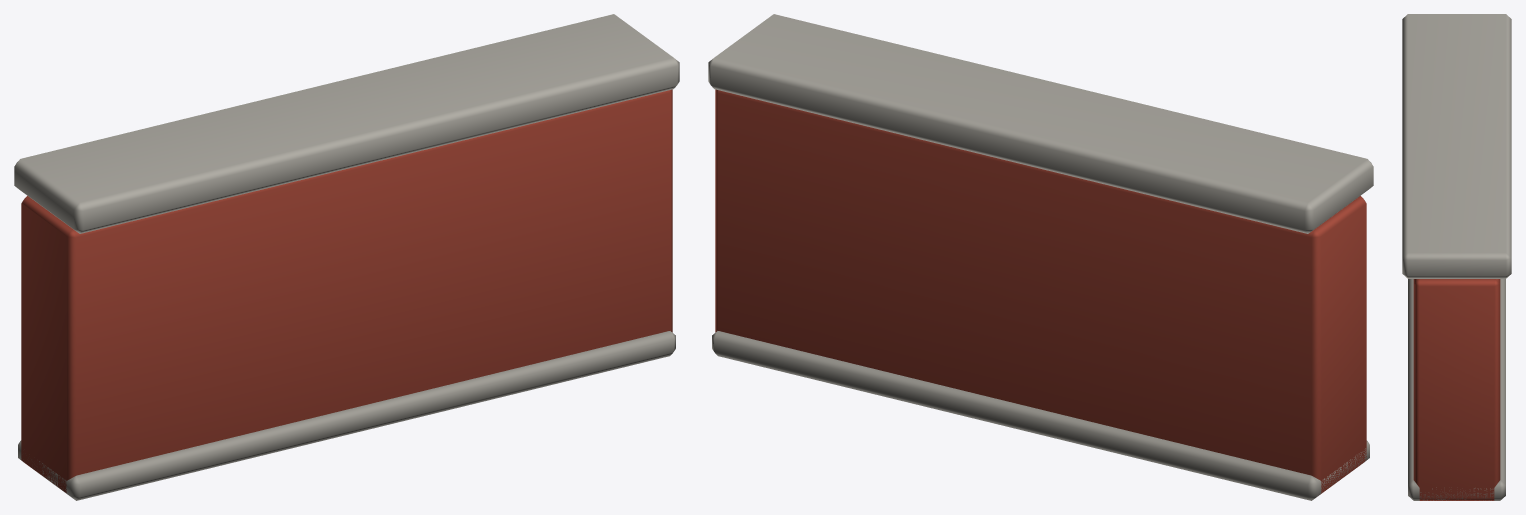
Rendered from garden_wall.glb.
3 renders of one model, left to right at view 1: azimuth 30°, elevation 25°; view 2: azimuth 150°, elevation 25°; view 3: azimuth 270°, elevation 25°, orthographic. The views are drawn at different scales.
Parts seen in each view (by area): view 1: Body; view 2: Body; view 3: Body.
Boxes of the visible parts, bbox=[...] form: Body: bbox=[14, 14, 679, 500]; Body: bbox=[708, 14, 1373, 500]; Body: bbox=[1402, 14, 1511, 500].
Size of the model in its own units: 2 by 0.95 by 0.38.
1 material, 1 textured.
